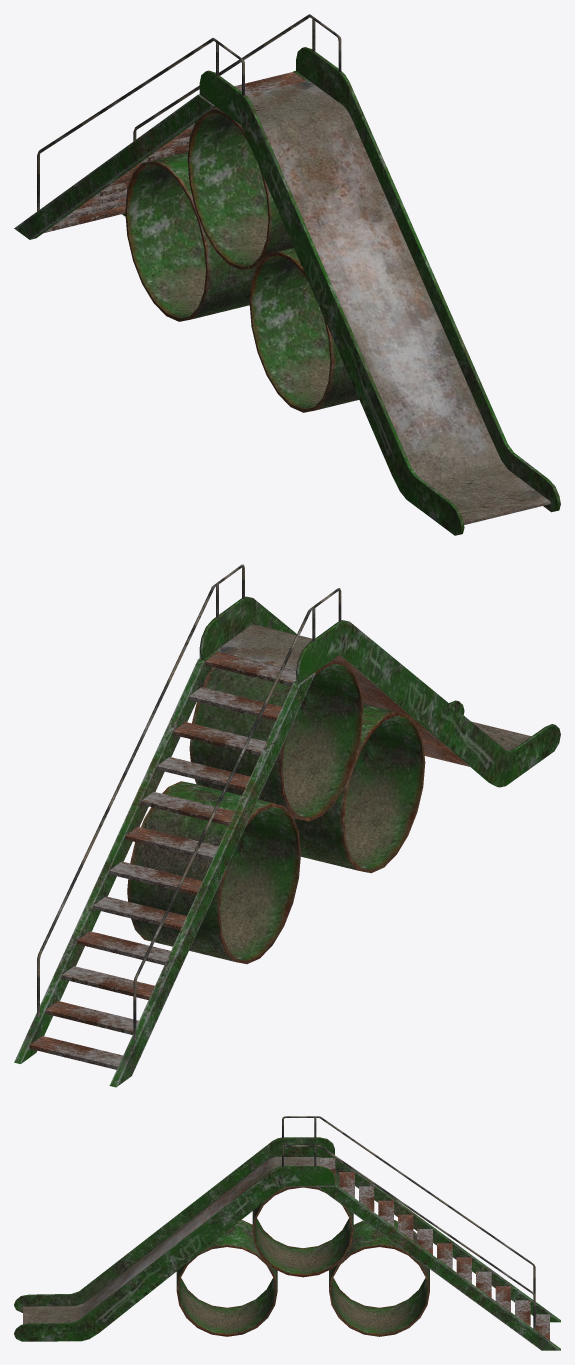
File: slide_rusty.glb
3 views of the same model, one above another, from view 1: azimuth 30°, elevation 25°; view 2: azimuth 150°, elevation 25°; view 3: azimuth 270°, elevation 25° (orthographic). The views are drawn at different scales.
Visible parts, largest first — view 1: slide_rusty; view 2: slide_rusty; view 3: slide_rusty.
Part boxes in pixels (x1,y1,x2,y2): slide_rusty: (14,14,560,535); slide_rusty: (14,564,560,1087); slide_rusty: (14,1116,560,1350).
Size of the model in its own units: 0.8055 by 2.52 by 6.09.
Materials: 1 (1 with a texture image).
